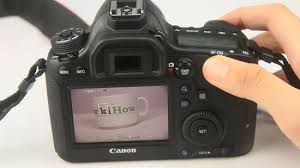camera: (48, 30, 256, 157)
